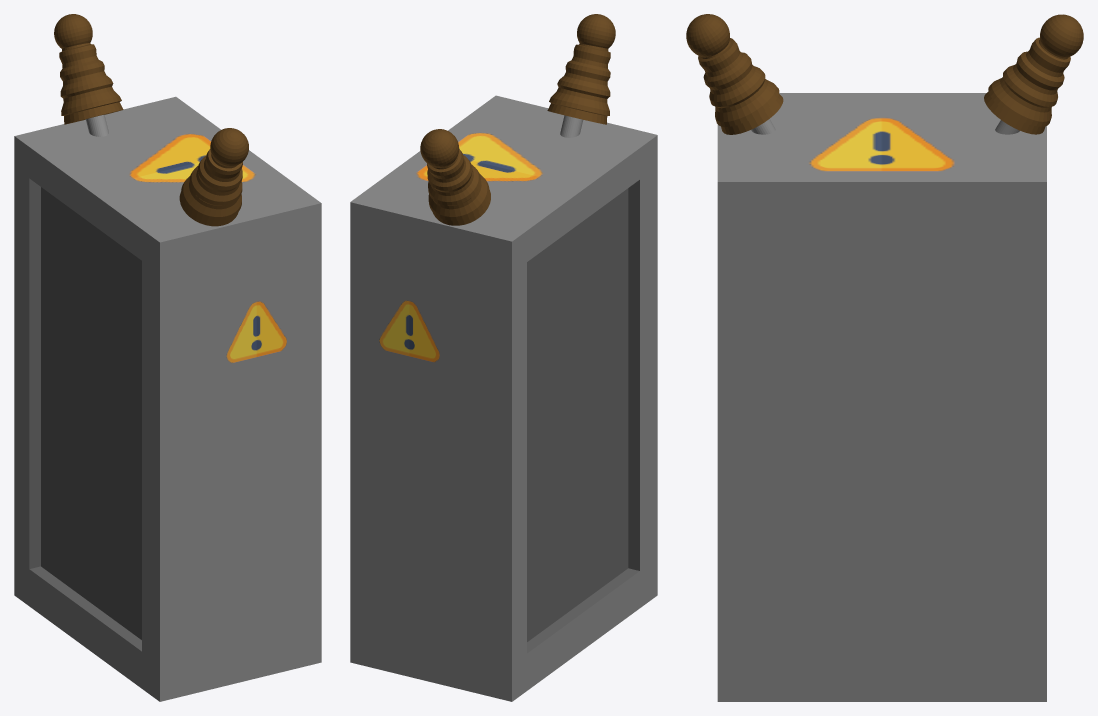
File: ElectricalPanel.fbx
3 renders of one model, left to right at view 1: azimuth 30°, elevation 25°; view 2: azimuth 150°, elevation 25°; view 3: azimuth 270°, elevation 25°, orthographic. The views are drawn at different scales.
Parts seen in each view (by area): view 1: Cube.017; view 2: Cube.017; view 3: Cube.017.
Part boxes in pixels (x1=…): Cube.017: x1=14, y1=14, x2=321, y2=701; Cube.017: x1=350, y1=14, x2=657, y2=701; Cube.017: x1=686, y1=14, x2=1083, y2=701.
Size of the model in its own units: 50.99 by 169 by 96.01.
1 material, 1 textured.
